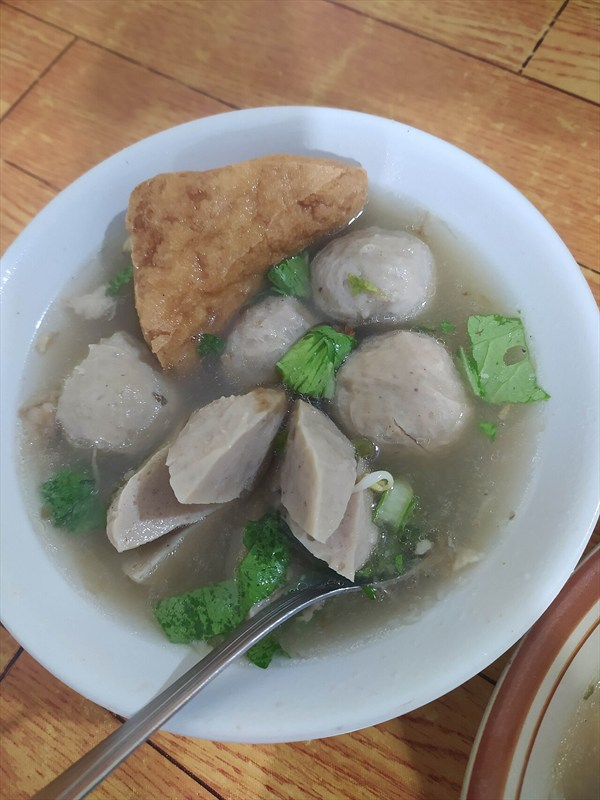Bakso: (43, 85, 588, 761)
